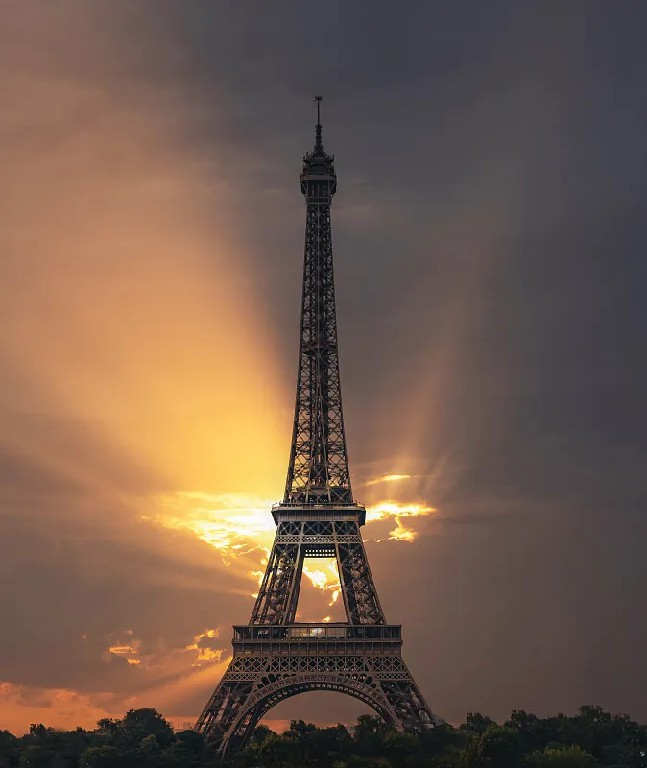Eiffel: (189, 97, 438, 753)
